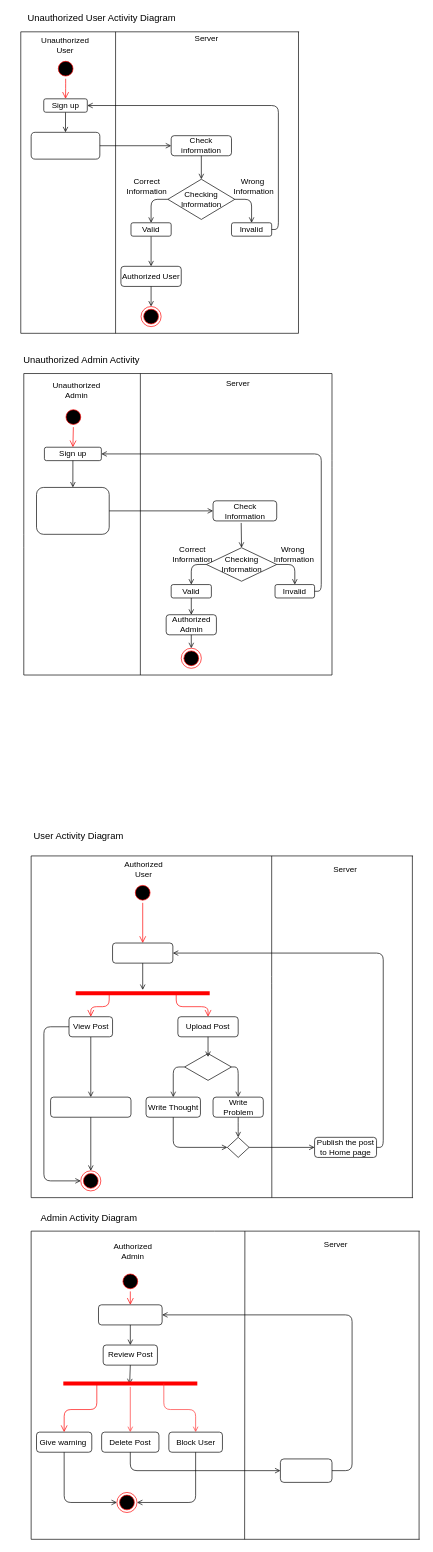
Image size: 433x1552. Some labels were removed from this diagram. Here are the shapes that lost their labels. From the top down, the box of each, then its label:
(30, 132, 100, 159): Give Nid no ,Email,Phone no and information
(36, 487, 109, 534): Give (Nid no ,Email,Phone no and Information)Form Fill up
(112, 942, 173, 963): Home page
(50, 1096, 131, 1117): Write Comment,Share
(98, 1304, 162, 1325): Dash Board
(280, 1458, 332, 1482): Delete From Database
